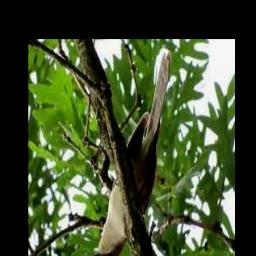Cuckoo: (88, 52, 172, 256)
